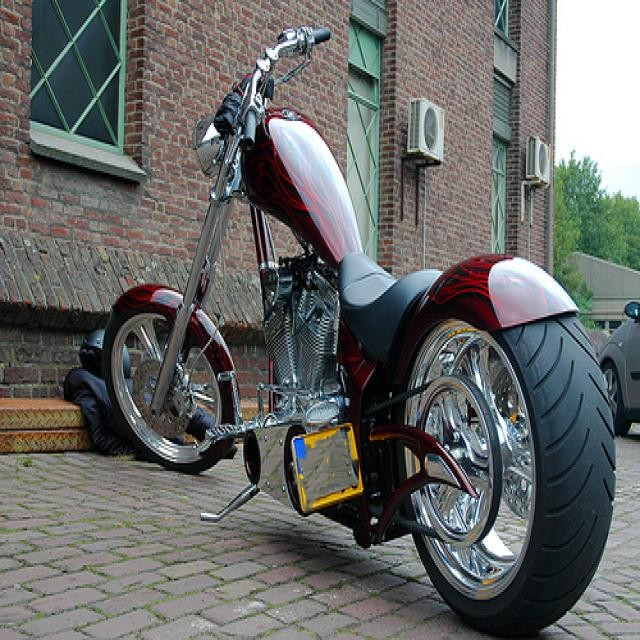motorcycle: (104, 26, 622, 636)
